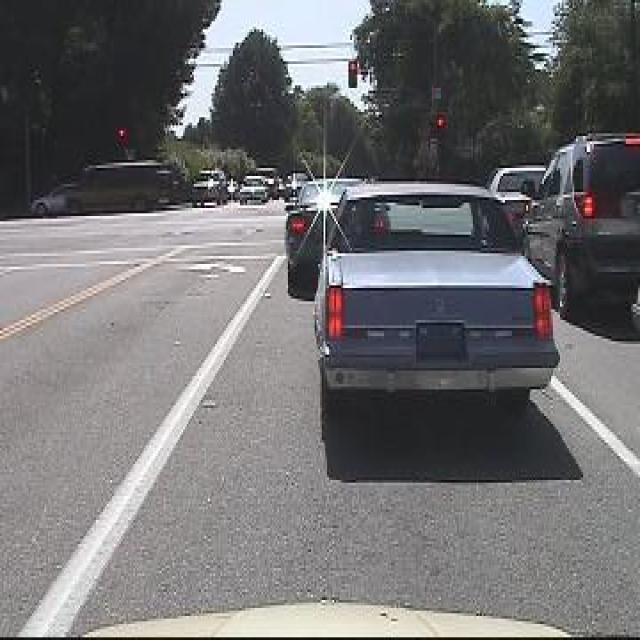car_back: (310, 179, 560, 434), (530, 133, 640, 347)
